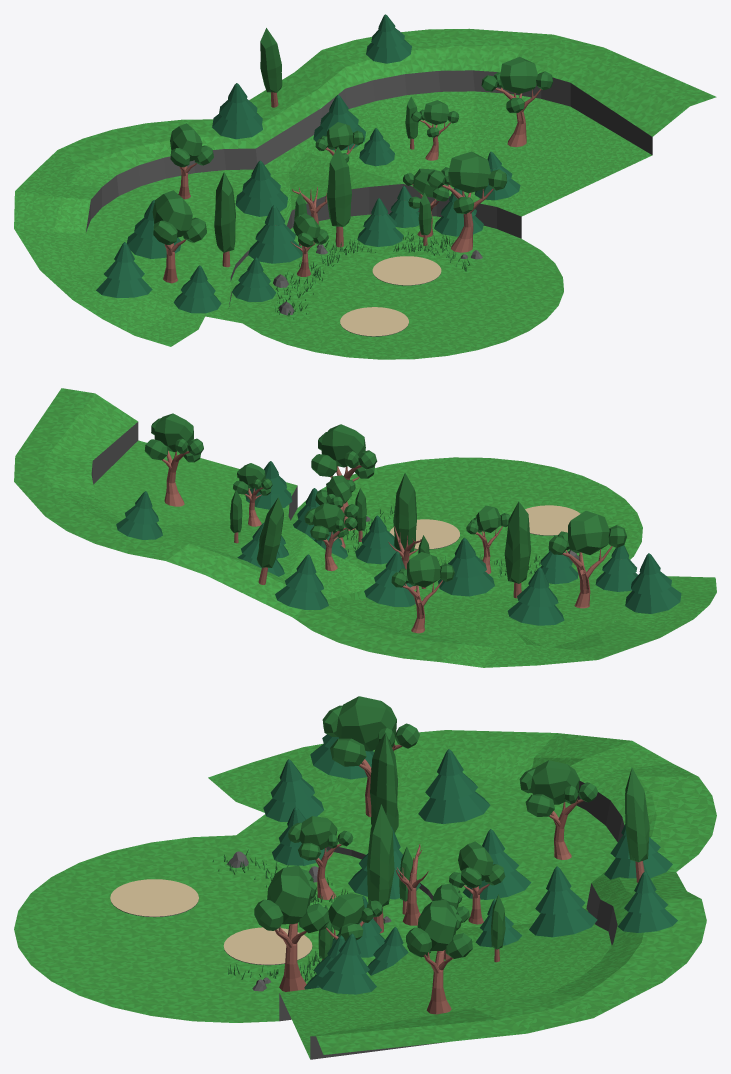
Rendered from FigthZone1.glb.
3 renders of one model, top to bottom at view 1: azimuth 30°, elevation 25°; view 2: azimuth 150°, elevation 25°; view 3: azimuth 270°, elevation 25°, orthographic. The views are drawn at different scales.
Parts seen in each view (by area): view 1: FightScene, zone.001, zone.002; view 2: FightScene, zone.001, zone.002; view 3: FightScene, zone.001, zone.002.
Part boxes in pixels (left/top/right/bottom): FightScene: left=14, top=14, right=716, bottom=359; zone.001: left=340, top=307, right=408, bottom=336; zone.002: left=372, top=256, right=441, bottom=285; FightScene: left=14, top=388, right=716, bottom=667; zone.001: left=525, top=505, right=580, bottom=535; zone.002: left=389, top=519, right=460, bottom=549; FightScene: left=14, top=696, right=716, bottom=1059; zone.001: left=110, top=879, right=198, bottom=917; zone.002: left=223, top=927, right=312, bottom=965.
Size of the model in its own units: 50.2 by 11.18 by 37.72.
Materials: 7 (1 with a texture image).
